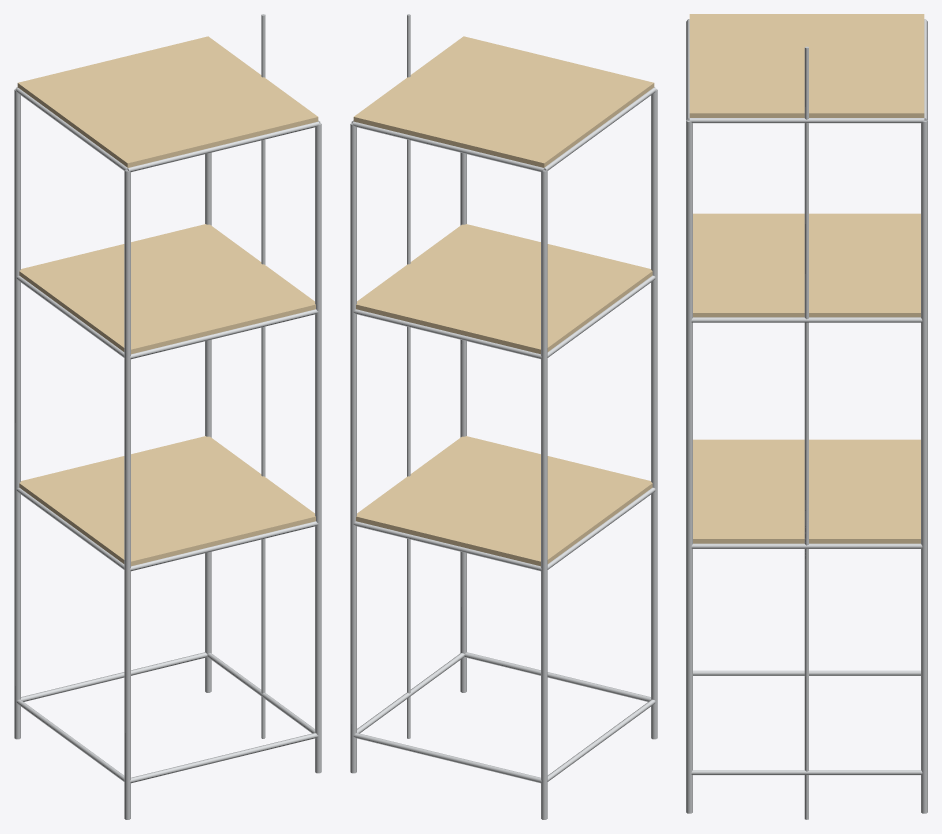
File: scaffold_tower.glb
The picture shows the model from 3 angles, left to right: view 1: azimuth 30°, elevation 25°; view 2: azimuth 150°, elevation 25°; view 3: azimuth 270°, elevation 25°; orthographic projection. The views are drawn at different scales.
Visible parts, largest first — view 1: scaffold_tower; view 2: scaffold_tower; view 3: scaffold_tower.
Part boxes in pixels (<box>): scaffold_tower: <box>14,14,321,819</box>; scaffold_tower: <box>350,14,657,819</box>; scaffold_tower: <box>686,14,927,819</box>.
Size of the model in its own units: 1.64 by 5.8 by 1.65.
